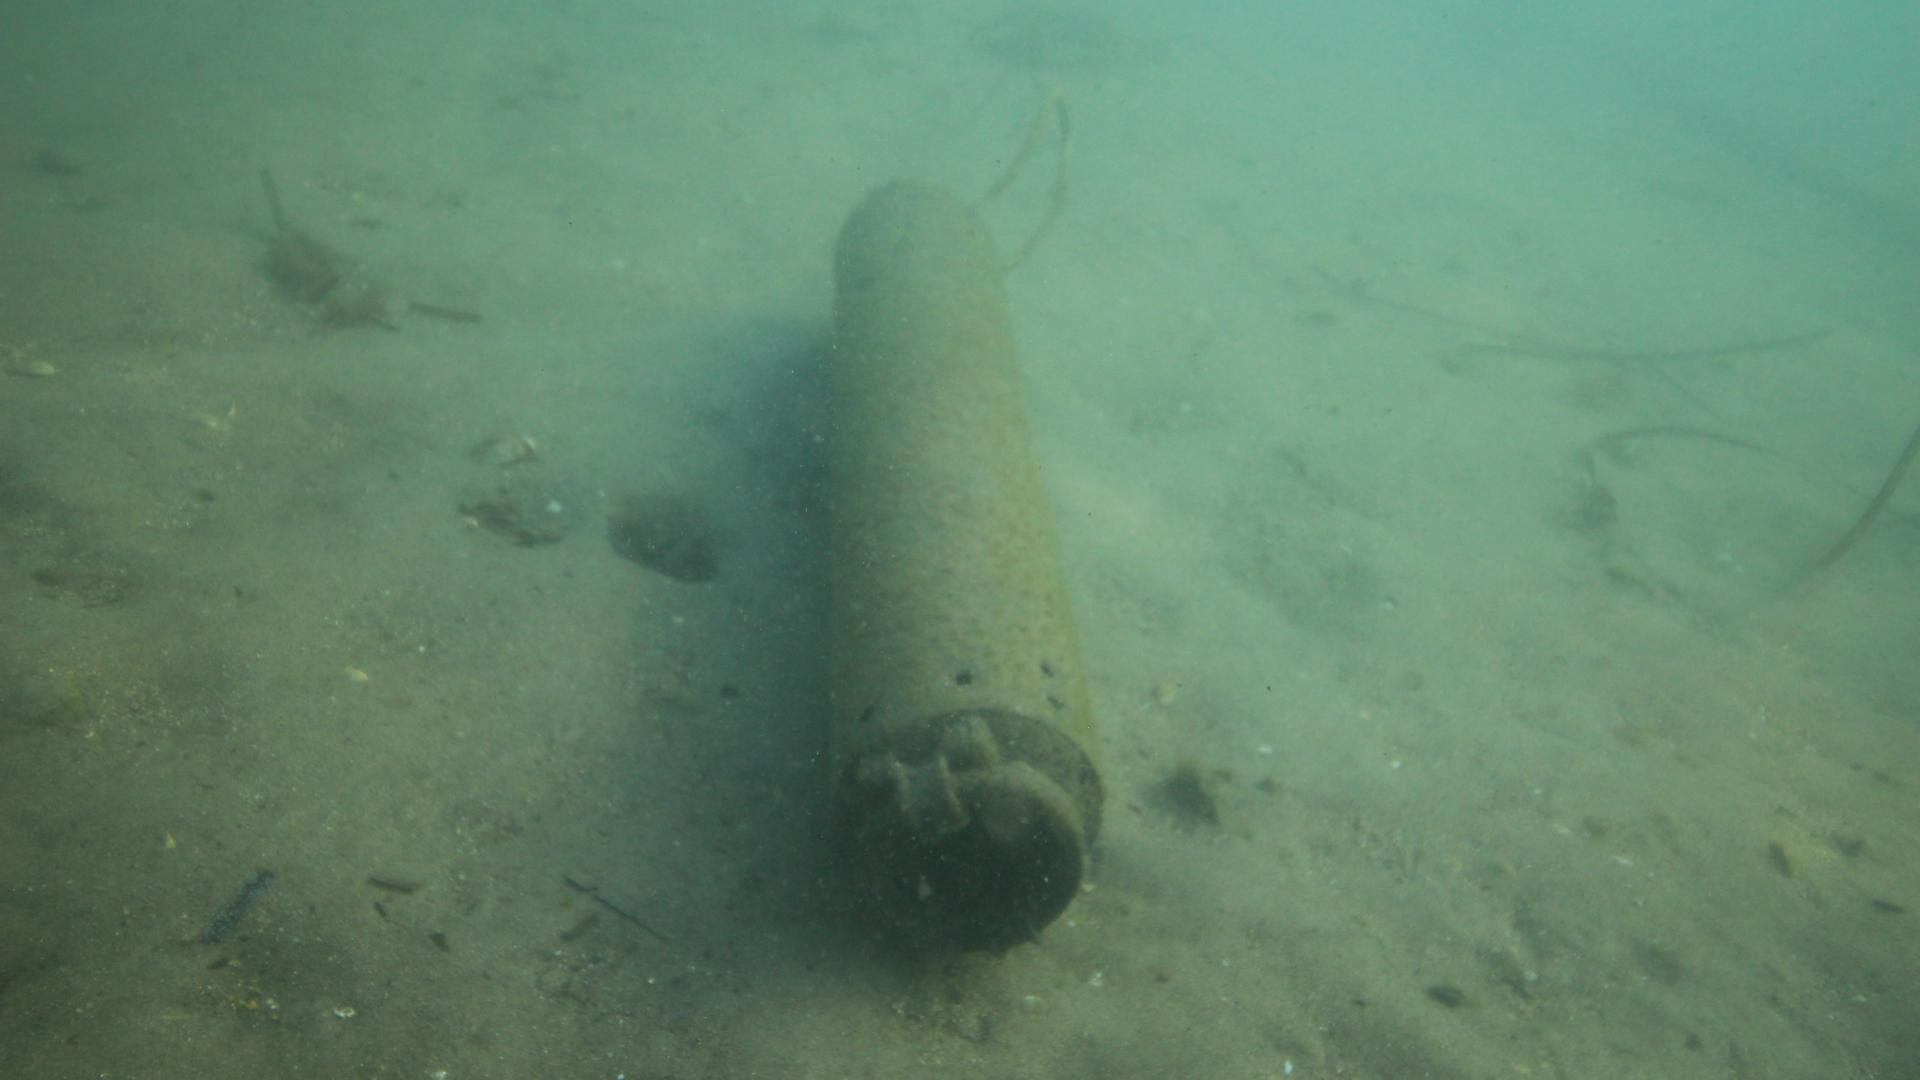eel fish trap: (823, 175, 1114, 960)
rope: (971, 87, 1073, 273)
